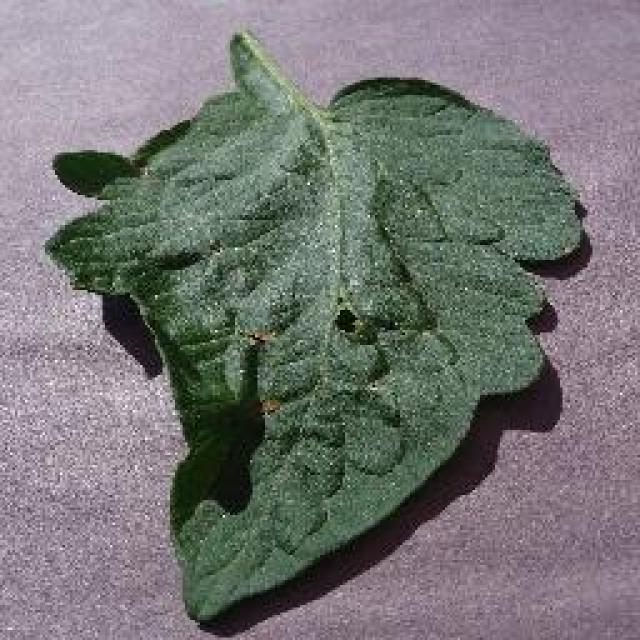Tomato___Target_Spot: (48, 32, 582, 620)
